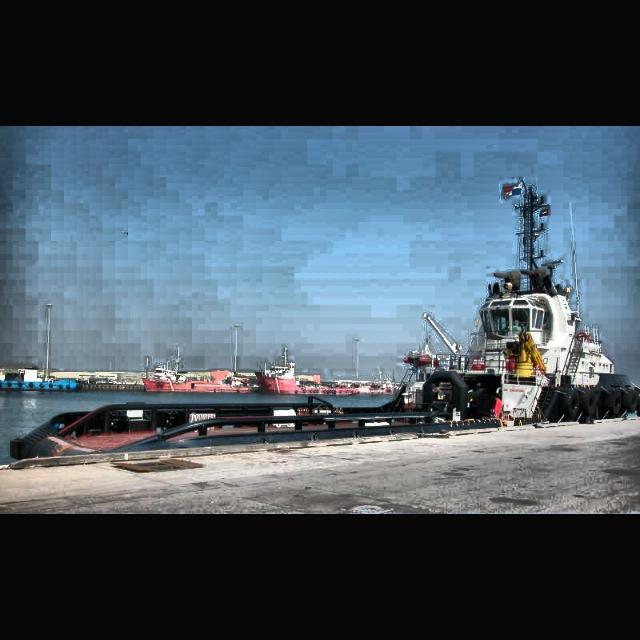anchor_handling_tug_supply: (8, 263, 640, 467), (255, 354, 358, 398), (142, 359, 252, 393)
